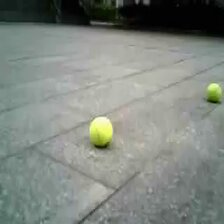tennis: (89, 117, 114, 146), (207, 84, 221, 102)
